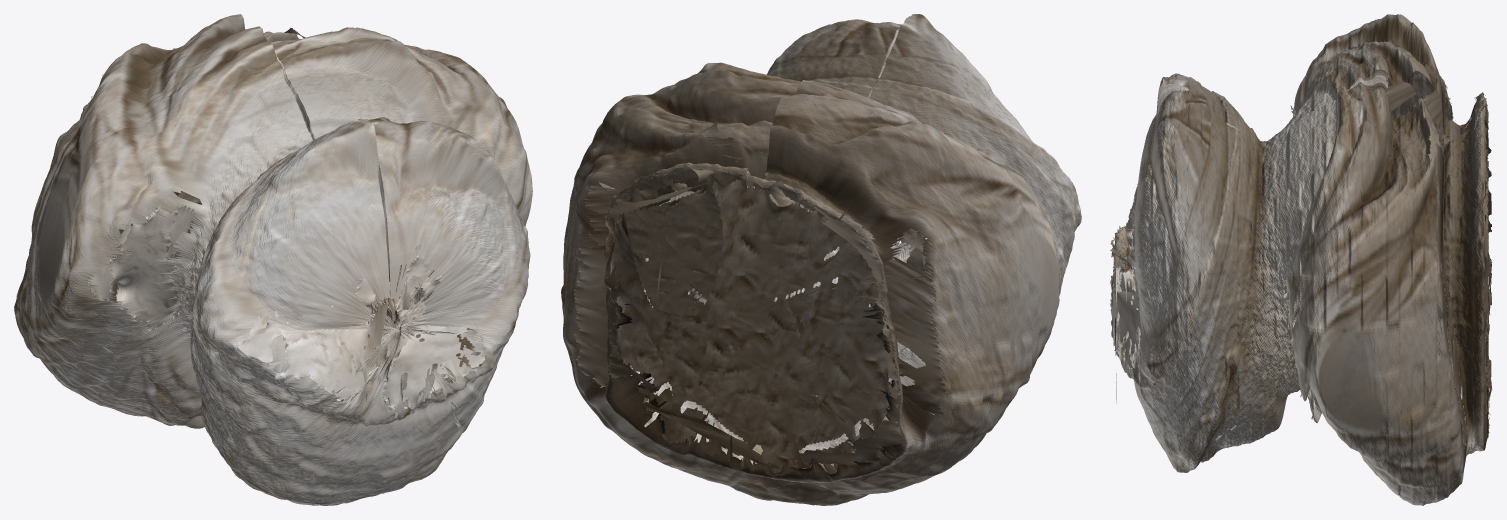
The model's file is mesh_inpaint.glb.
The picture shows the model from 3 angles, left to right: view 1: azimuth 30°, elevation 25°; view 2: azimuth 150°, elevation 25°; view 3: azimuth 270°, elevation 25°; orthographic projection. The views are drawn at different scales.
Parts seen in each view (by area): view 1: ipn, fill; view 2: ipn, fill; view 3: ipn, fill.
Boxes of the visible parts, <box> form: ipn: <box>14,14,532,505</box>; fill: <box>81,28,486,417</box>; ipn: <box>561,14,1081,505</box>; fill: <box>573,91,947,473</box>; ipn: <box>1112,14,1487,505</box>; fill: <box>1110,75,1492,448</box>.
Bounding box in the file's own units: 2 × 1.67 × 1.45.
2 materials, 1 textured.
